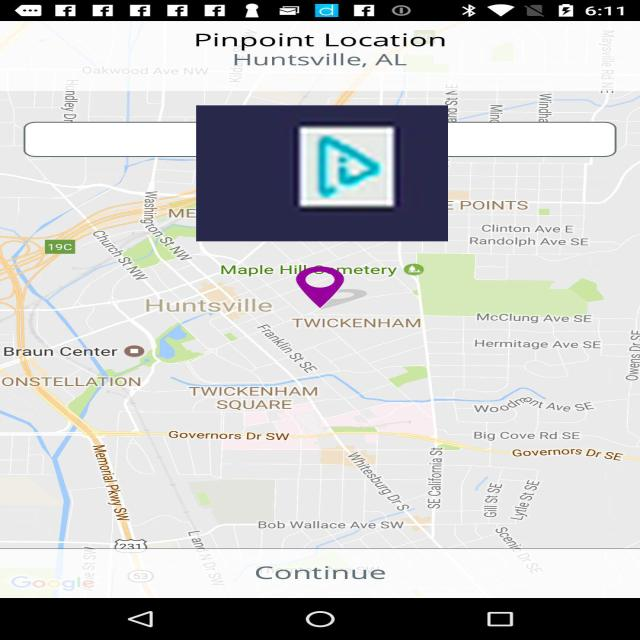sneaking: (196, 106, 448, 242)
